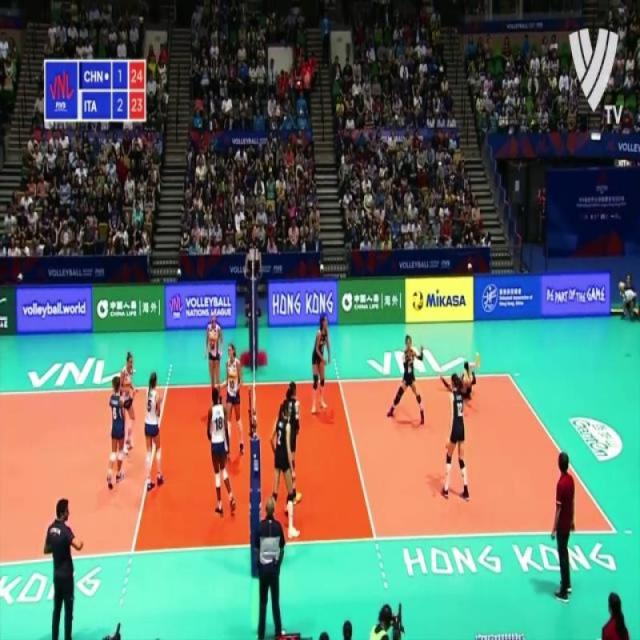volleyball: (412, 290, 424, 312), (619, 282, 626, 293)
